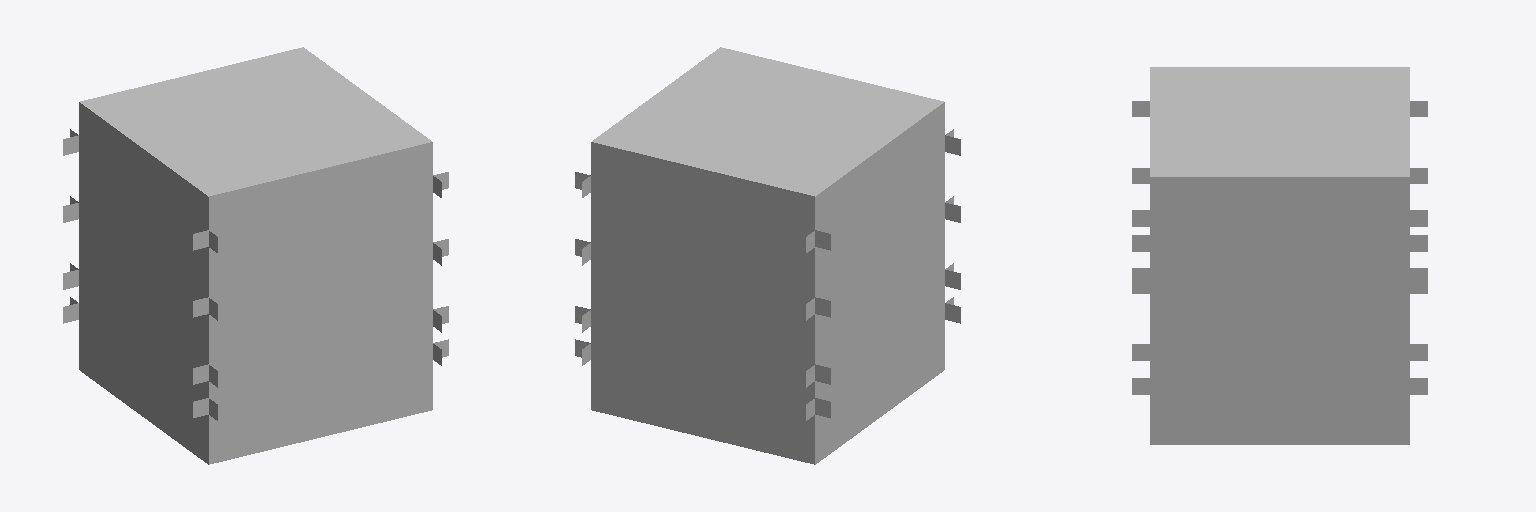
File: cactus.obj
3 renders of one model, left to right at view 1: azimuth 30°, elevation 25°; view 2: azimuth 150°, elevation 25°; view 3: azimuth 270°, elevation 25°, orthographic.
Parts seen in each view (by area): view 1: group_4.003_ID45.007, group_4.002_ID45.006, group_6_ID72.003, group_4.001_ID45.005, group_4_ID45.004; view 2: group_4.001_ID45.005, group_4.002_ID45.006, group_6_ID72.003, group_4.003_ID45.007, group_4_ID45.004; view 3: group_4_ID45.004, group_6_ID72.003, group_4.002_ID45.006.
Boxes of the visible parts, box(x1,y1,x2,y2) form: group_4.003_ID45.007: box(193, 142, 448, 464); group_4.002_ID45.006: box(70, 102, 217, 464); group_6_ID72.003: box(80, 47, 431, 196); group_4.001_ID45.005: box(63, 135, 78, 323); group_4_ID45.004: box(433, 176, 441, 365); group_4.001_ID45.005: box(575, 142, 830, 464); group_4.002_ID45.006: box(806, 102, 953, 464); group_6_ID72.003: box(592, 47, 943, 196); group_4.003_ID45.007: box(945, 135, 960, 323); group_4_ID45.004: box(582, 176, 590, 365); group_4_ID45.004: box(1132, 177, 1427, 444); group_6_ID72.003: box(1150, 67, 1409, 176); group_4.002_ID45.006: box(1132, 101, 1427, 276).
Size of the model in its own units: 1 by 1 by 1.